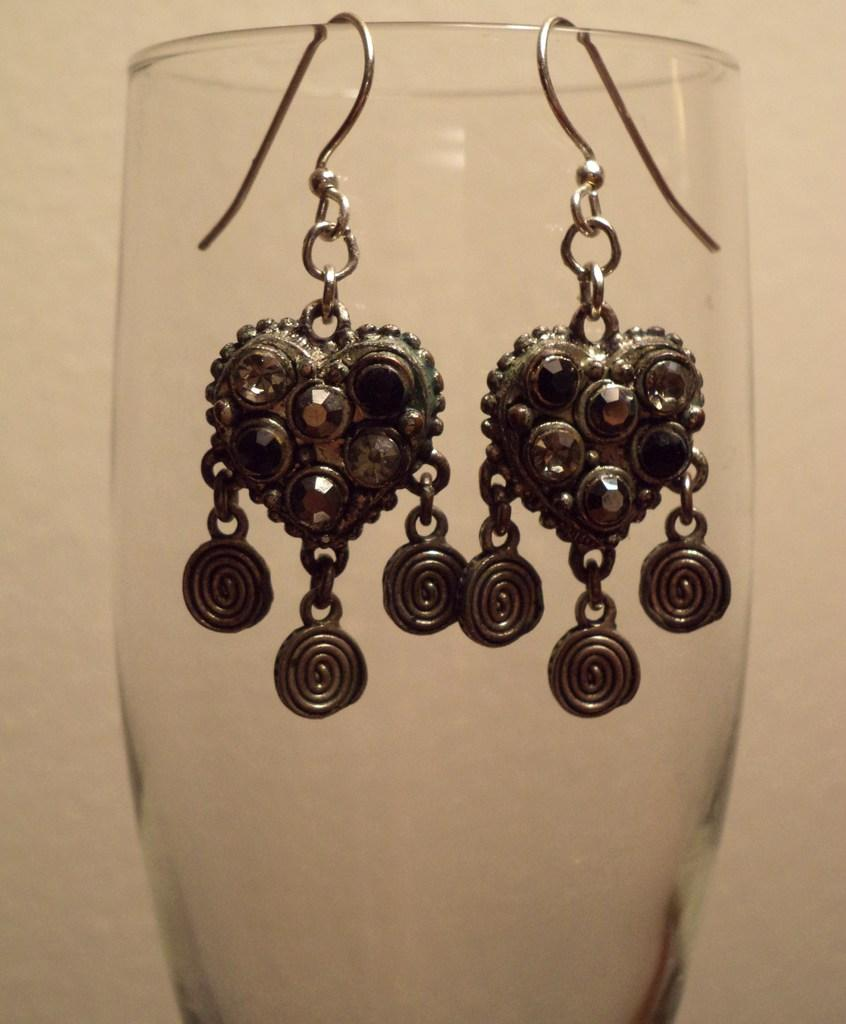earrings: (449, 7, 740, 722)
